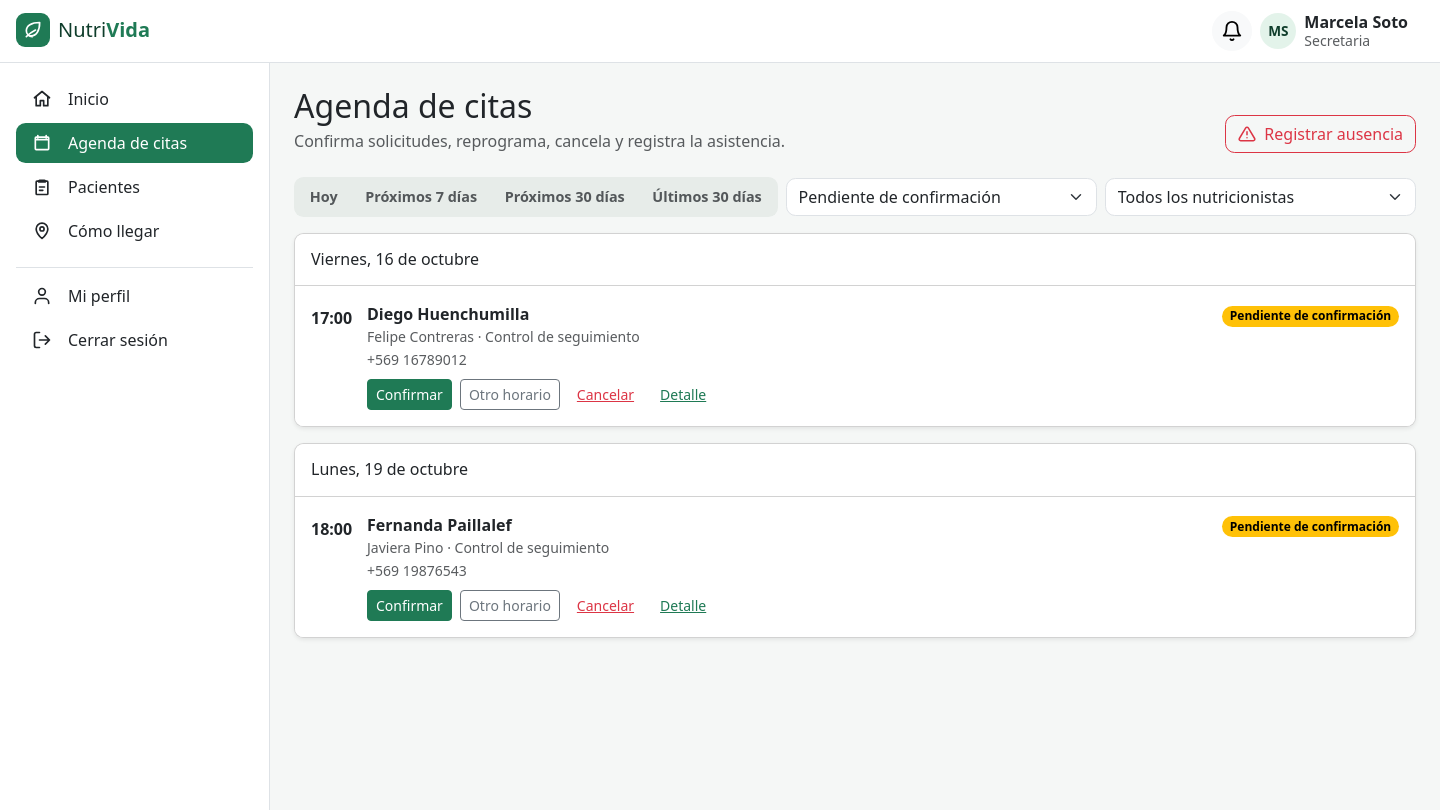
Vistas de la secretaria › Agenda: confirma una solicitud pendiente con un clic
The width and height of the screenshot is (1440, 810).
Click the button "Confirmar" below "+569 16789012" at (409, 395), box [367,380,452,410]
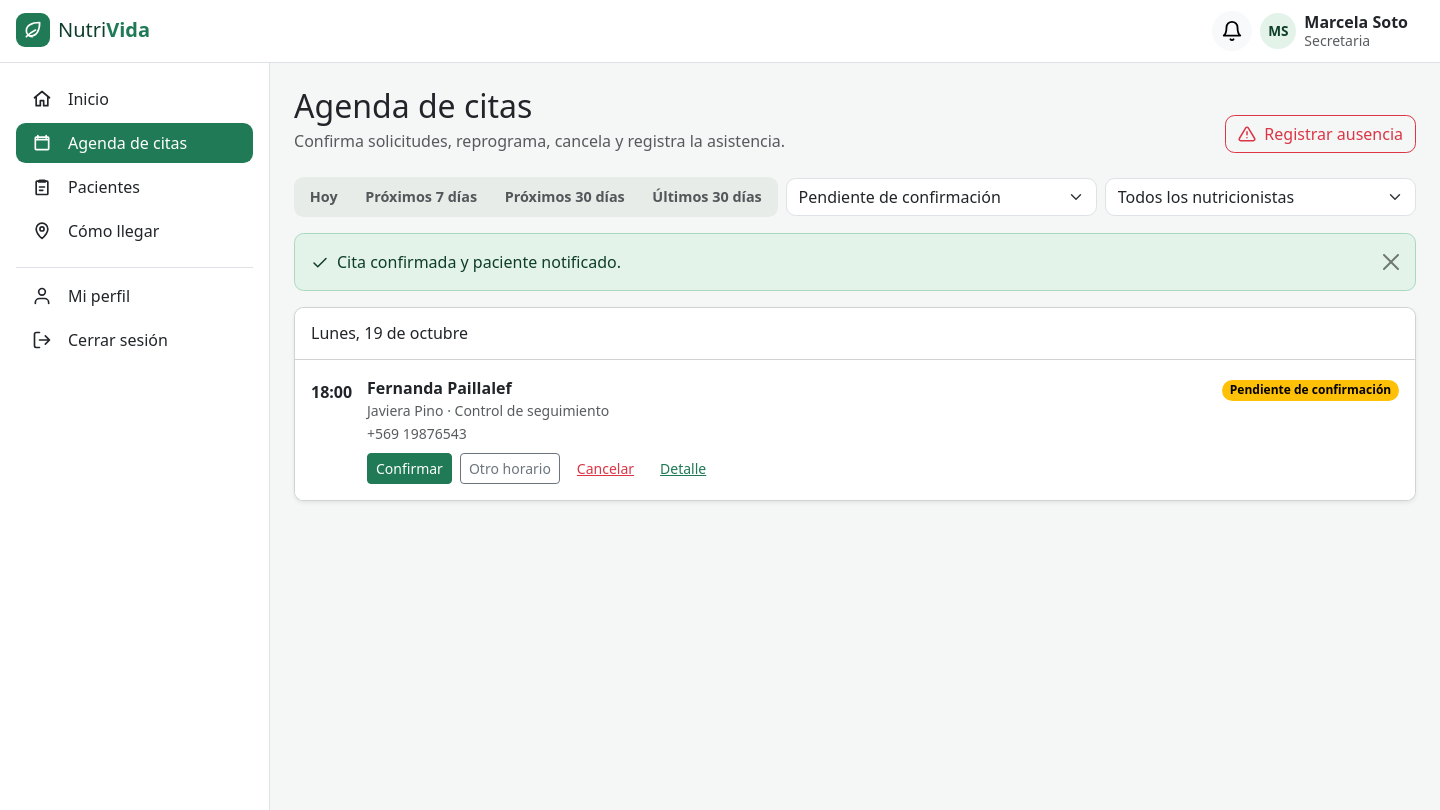
Expected: the text "Cita confirmada y paciente notificado." is shown, [337,250,621,274]
